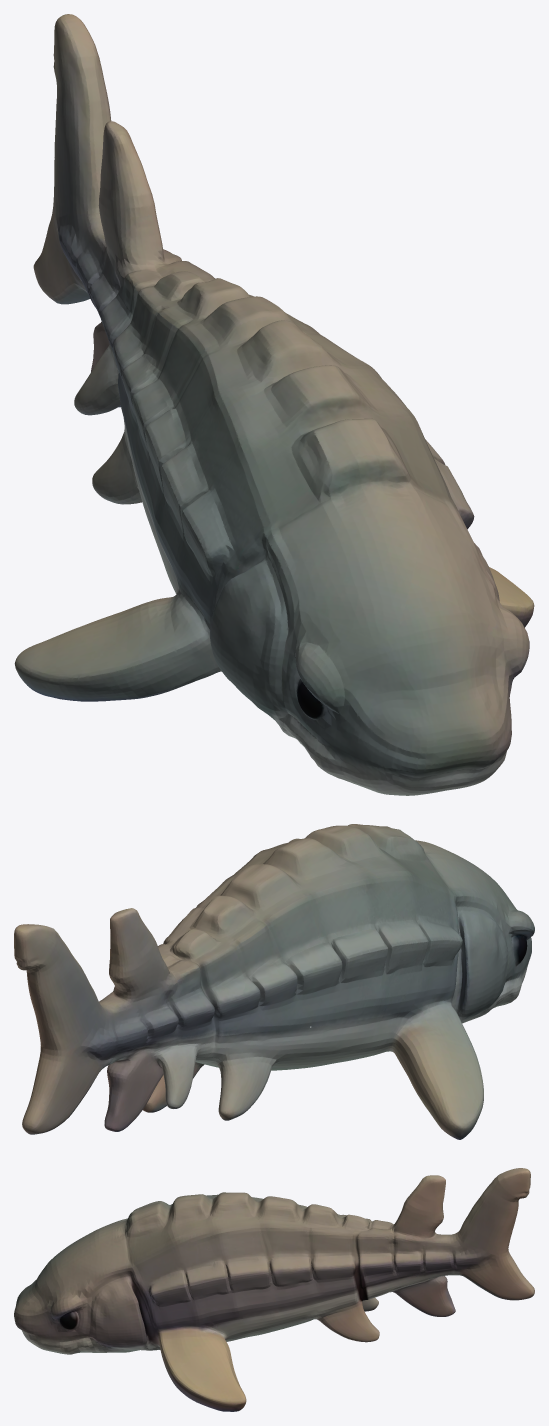
The model's file is fish_legendary_1.glb.
The picture shows the model from 3 angles, top to bottom: view 1: azimuth 30°, elevation 25°; view 2: azimuth 150°, elevation 25°; view 3: azimuth 270°, elevation 25°; orthographic projection. The views are drawn at different scales.
Parts seen in each view (by area): view 1: tripo_node_ef80c070-8e21-4e30-a35d-69fb7a65e5a8; view 2: tripo_node_ef80c070-8e21-4e30-a35d-69fb7a65e5a8; view 3: tripo_node_ef80c070-8e21-4e30-a35d-69fb7a65e5a8.
Boxes of the visible parts, x1,y1,x2,y2 form: tripo_node_ef80c070-8e21-4e30-a35d-69fb7a65e5a8: [14, 14, 534, 795]; tripo_node_ef80c070-8e21-4e30-a35d-69fb7a65e5a8: [14, 824, 534, 1139]; tripo_node_ef80c070-8e21-4e30-a35d-69fb7a65e5a8: [14, 1168, 534, 1411].
Size of the model in its own units: 0.5117 by 0.4339 by 0.9807.
Materials: 1 (1 with a texture image).
